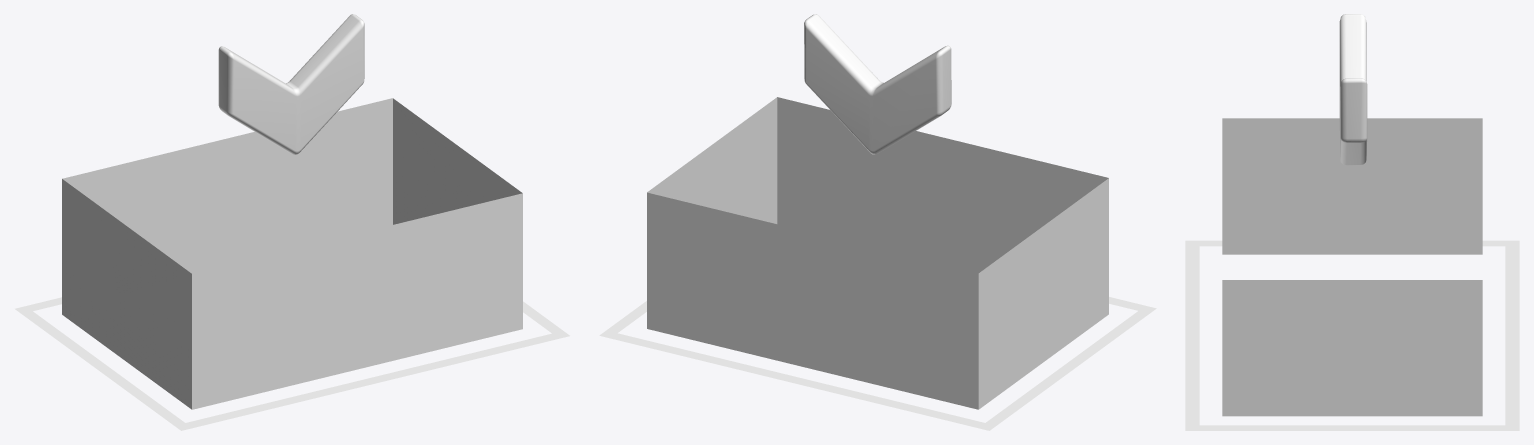
File: Destination.fbx
The picture shows the model from 3 angles, left to right: view 1: azimuth 30°, elevation 25°; view 2: azimuth 150°, elevation 25°; view 3: azimuth 270°, elevation 25°; orthographic projection.
Parts seen in each view (by area): view 1: Location_Gradient, Arrow, Loaction_Marking; view 2: Location_Gradient, Arrow, Loaction_Marking; view 3: Location_Gradient, Loaction_Marking, Arrow.
Boxes of the visible parts, box(x1,y1,x2,y2) form: Location_Gradient: box(62, 98, 522, 409); Arrow: box(218, 14, 364, 154); Loaction_Marking: box(15, 297, 569, 430); Location_Gradient: box(647, 97, 1108, 409); Arrow: box(804, 14, 951, 154); Loaction_Marking: box(599, 297, 1156, 430); Location_Gradient: box(1222, 118, 1482, 416); Loaction_Marking: box(1185, 240, 1519, 430); Arrow: box(1339, 14, 1367, 165).
Size of the model in its own units: 170 by 121 by 127.
